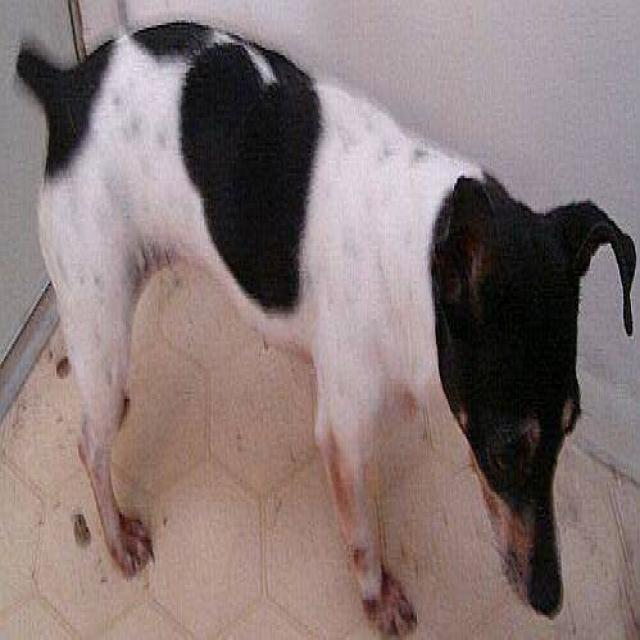dog: (15, 22, 637, 640)
